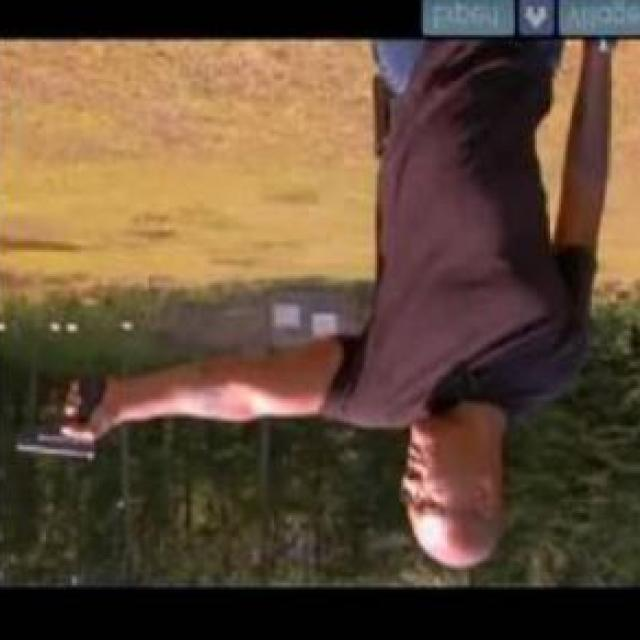pistol: (11, 364, 108, 464)
